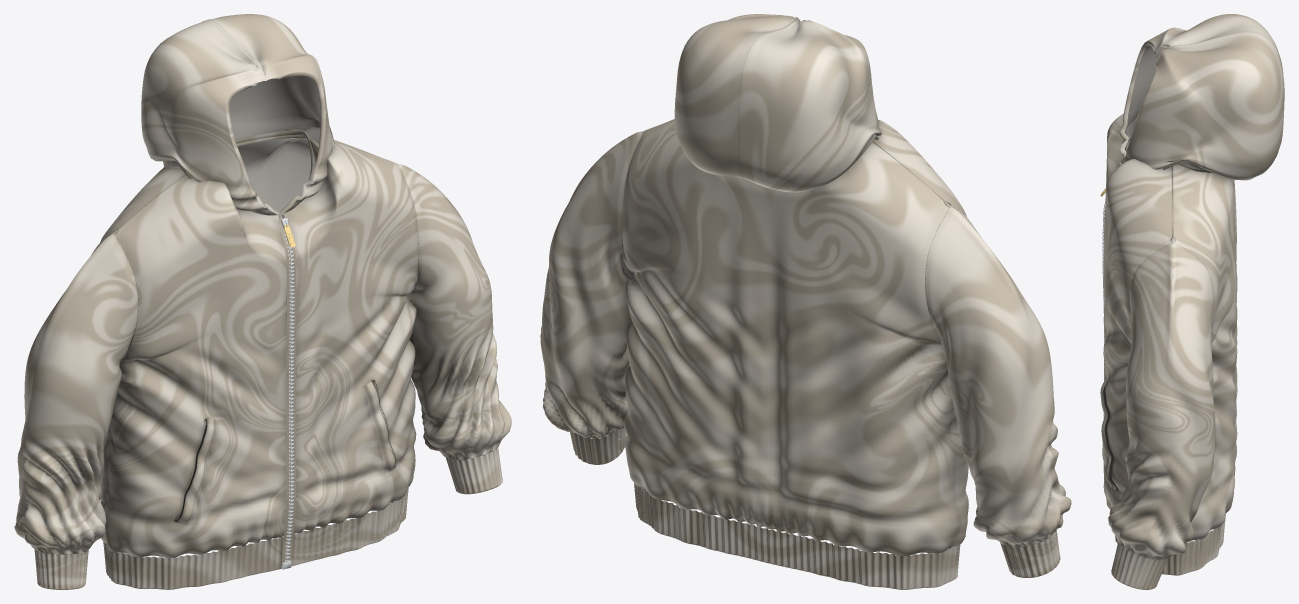
Rendered from ressac-v3-ivory-tide.glb.
3 renders of one model, left to right at view 1: azimuth 30°, elevation 25°; view 2: azimuth 150°, elevation 25°; view 3: azimuth 270°, elevation 25°, orthographic. The views are drawn at different scales.
Visible parts, largest first — view 1: Panel_Right, Panel_Left, Sleeve_Right, Hood_Outer, Sleeve_Left, Hem, Body_Back, Hood_Inner, Zip_Teeth_Right, Zip_Teeth_Left, Cuff_Right, Cuff_Left (+2 smaller); view 2: Body_Back, Hood_Outer, Sleeve_Right, Sleeve_Left, Hem, Panel_Right, Cuff_Right, Cuff_Left; view 3: Sleeve_Left, Hood_Outer, Body_Back, Panel_Left, Cuff_Left, Hem, Hood_Inner, Panel_Right, Pocket_Left.
Boxes of the visible parts, bbox=[...] form: Panel_Right: bbox=[105, 175, 286, 558]; Panel_Left: bbox=[282, 138, 418, 533]; Sleeve_Right: bbox=[14, 233, 138, 554]; Hood_Outer: bbox=[141, 14, 335, 215]; Sleeve_Left: bbox=[398, 164, 511, 460]; Hem: bbox=[103, 487, 408, 589]; Body_Back: bbox=[100, 128, 398, 543]; Hood_Inner: bbox=[229, 76, 320, 203]; Zip_Teeth_Right: bbox=[278, 217, 293, 569]; Zip_Teeth_Left: bbox=[283, 216, 296, 567]; Cuff_Right: bbox=[34, 549, 88, 589]; Cuff_Left: bbox=[446, 447, 502, 494]; Body_Back: bbox=[622, 119, 960, 555]; Hood_Outer: bbox=[674, 14, 881, 192]; Sleeve_Right: bbox=[925, 206, 1071, 546]; Sleeve_Left: bbox=[540, 131, 642, 438]; Hem: bbox=[634, 483, 960, 589]; Panel_Right: bbox=[872, 120, 968, 545]; Cuff_Right: bbox=[1000, 530, 1060, 577]; Cuff_Left: bbox=[570, 425, 625, 464]; Sleeve_Left: bbox=[1108, 242, 1215, 559]; Hood_Outer: bbox=[1119, 14, 1284, 180]; Body_Back: bbox=[1170, 164, 1237, 543]; Panel_Left: bbox=[1102, 158, 1175, 509]; Cuff_Left: bbox=[1111, 542, 1168, 589]; Hem: bbox=[1115, 513, 1225, 575]; Hood_Inner: bbox=[1124, 45, 1187, 164]; Panel_Right: bbox=[1105, 107, 1140, 200]; Pocket_Left: bbox=[1100, 381, 1117, 489].
Size of the model in its own units: 0.8831 by 0.8705 by 0.3057.
Materials: 7 (1 with a texture image).
